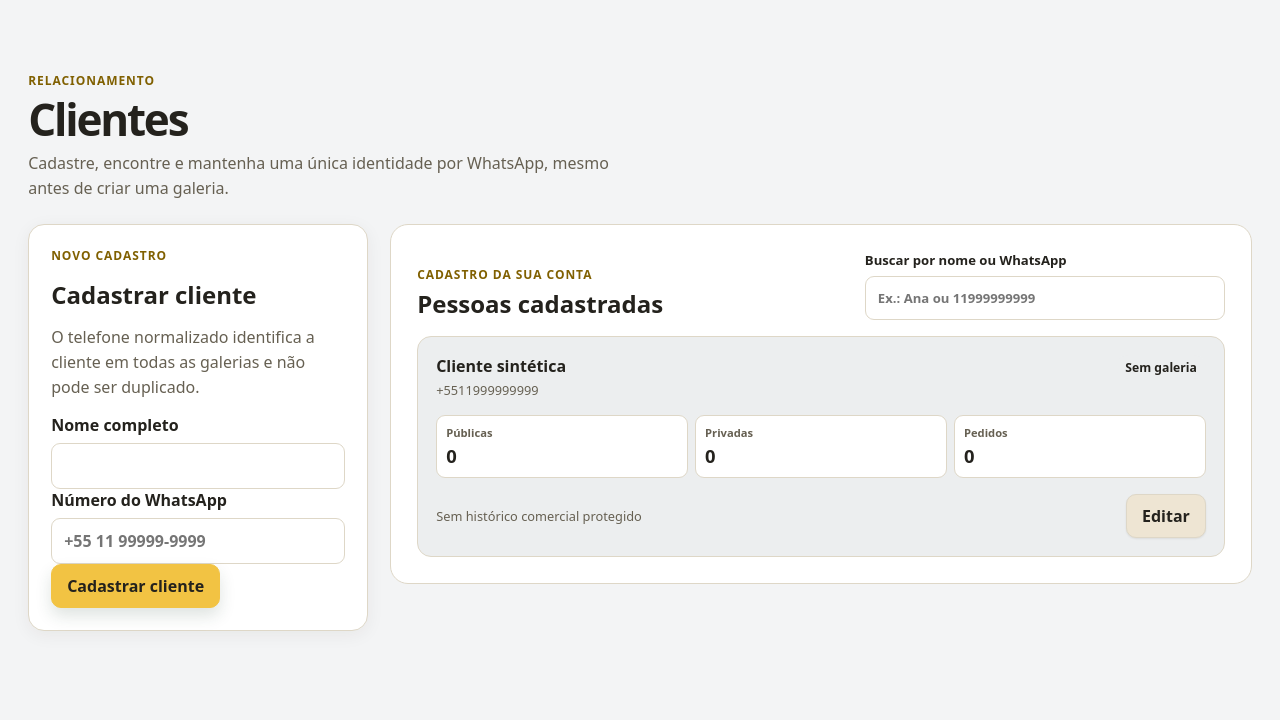
Test: diretório global de clientes › mostra referência segura e orientação de recarga em falha inesperada sem repetir a exclusão
Click the button "Editar": point(1166, 516) [1126,494,1206,538]
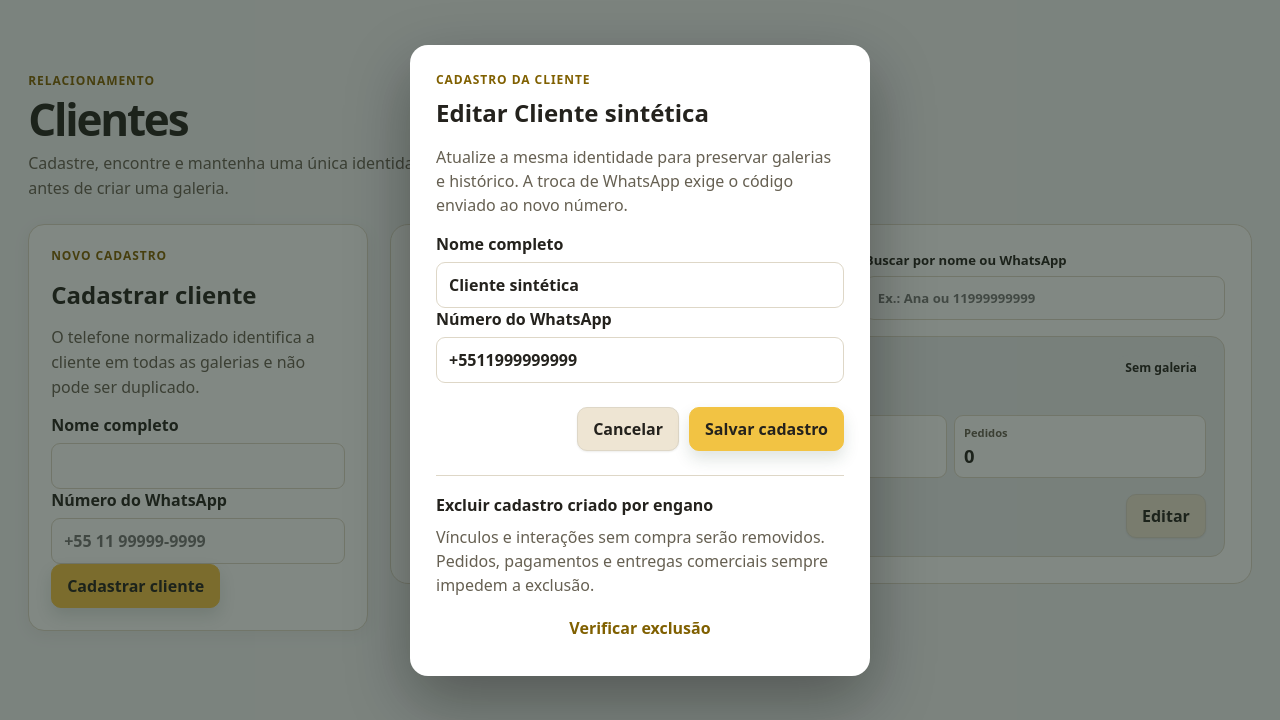
Click the button "Verificar exclusão": point(640, 628) [436,606,844,650]
(page scrolled)
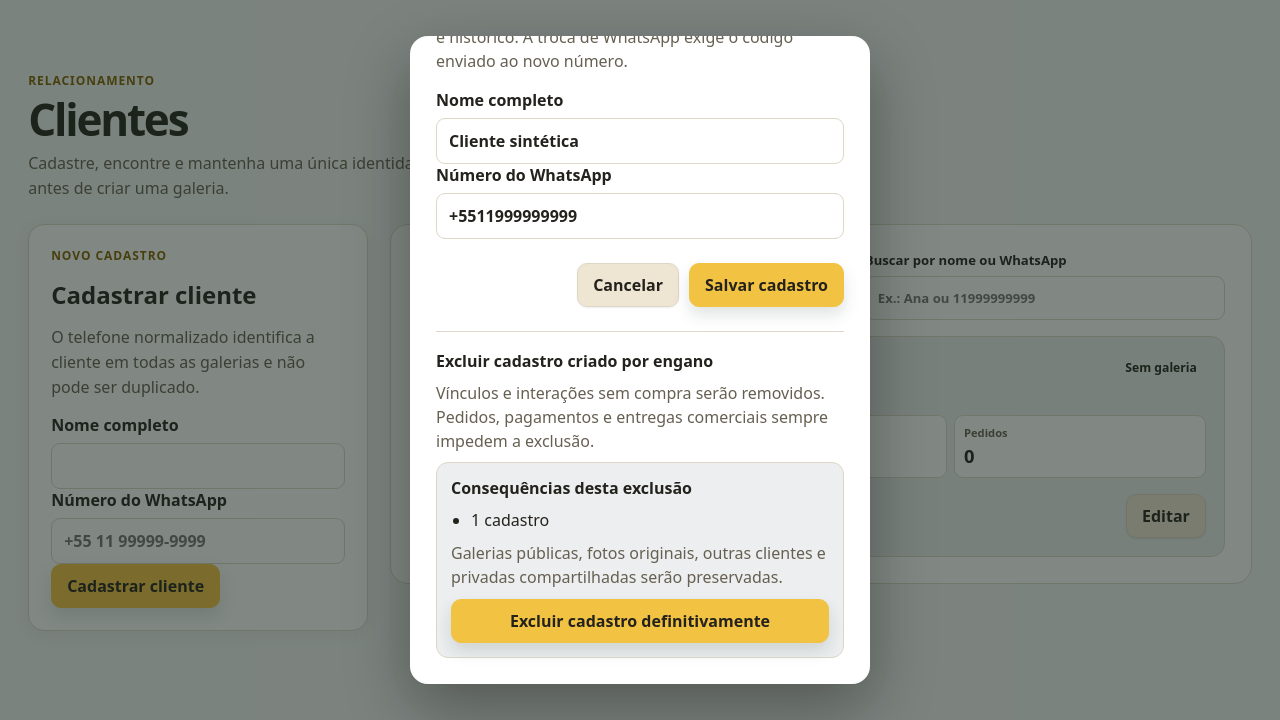
Click the button "Excluir cadastro definitivamente": point(640, 621) [451,599,829,643]
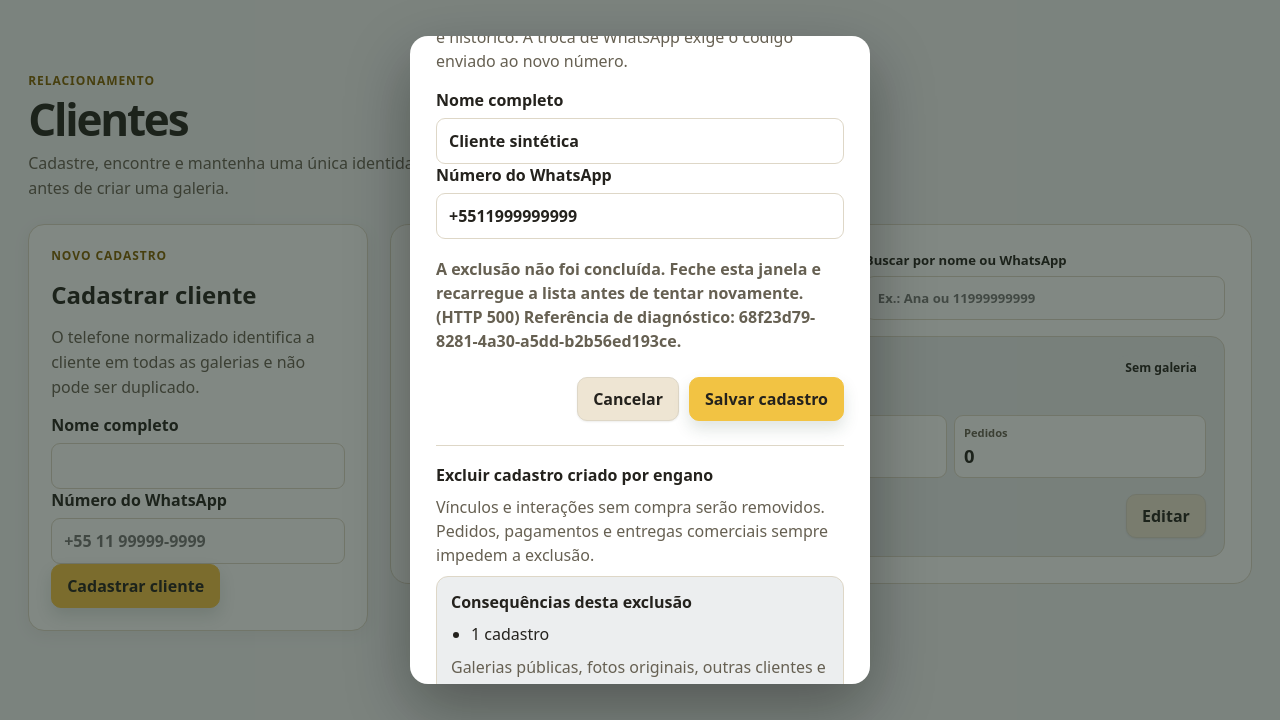
Expected: the message shows "HTTP 500", [436,258,821,352]
Expected: the message shows "68f23d79-8281-4a30-a5dd-b2b56ed193ce", [436,258,821,352]
Expected: the message shows "recarregue a lista antes de tentar novamente", [436,258,821,352]
